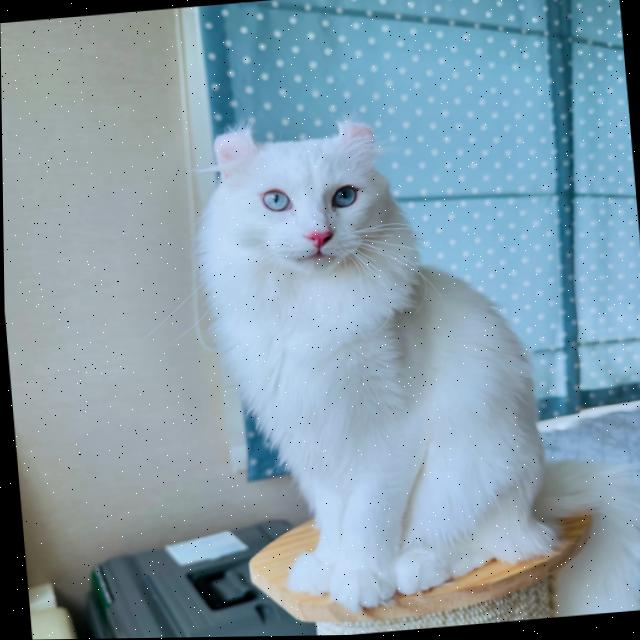American Curl: (177, 91, 640, 638)
